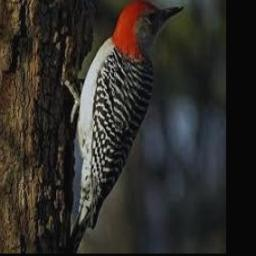Woodpecker: (66, 0, 184, 254)
